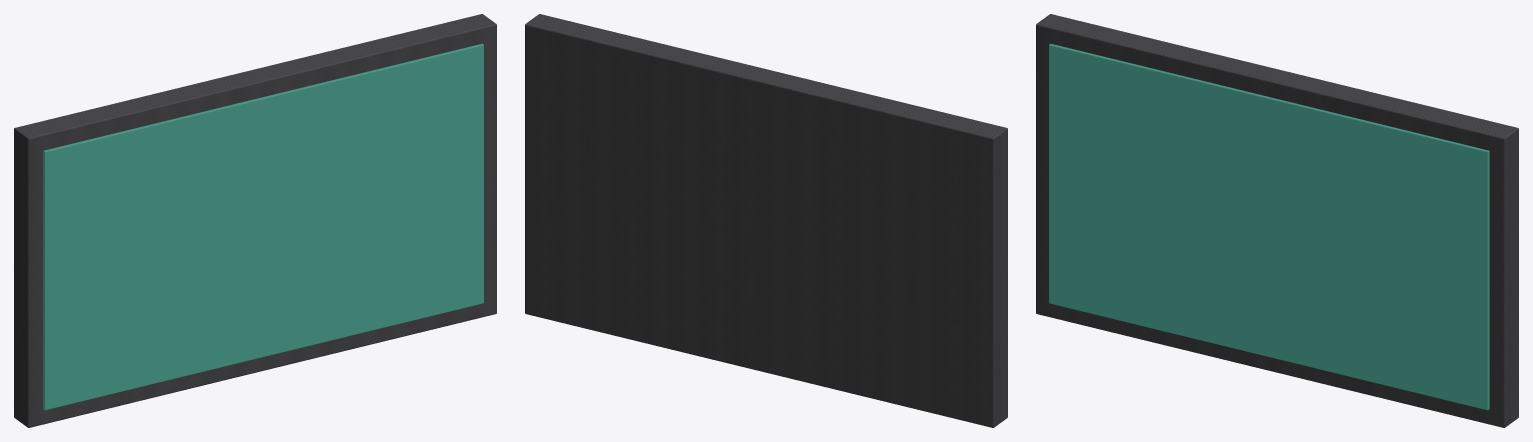
File: mission_display.glb
The picture shows the model from 3 angles, left to right: view 1: azimuth 30°, elevation 25°; view 2: azimuth 150°, elevation 25°; view 3: azimuth 330°, elevation 25°; orthographic projection.
Parts seen in each view (by area): view 1: display.011, frame.001; view 2: frame.001; view 3: display.011, frame.001.
Boxes of the visible parts, x1,y1,x2,y2 form: display.011: (43,43,483,410); frame.001: (14,14,496,427); frame.001: (525,14,1007,427); display.011: (1049,43,1489,410); frame.001: (1036,14,1518,427).
Size of the model in its own units: 2.2 by 1.3 by 0.1345.
2 materials, 1 textured.
